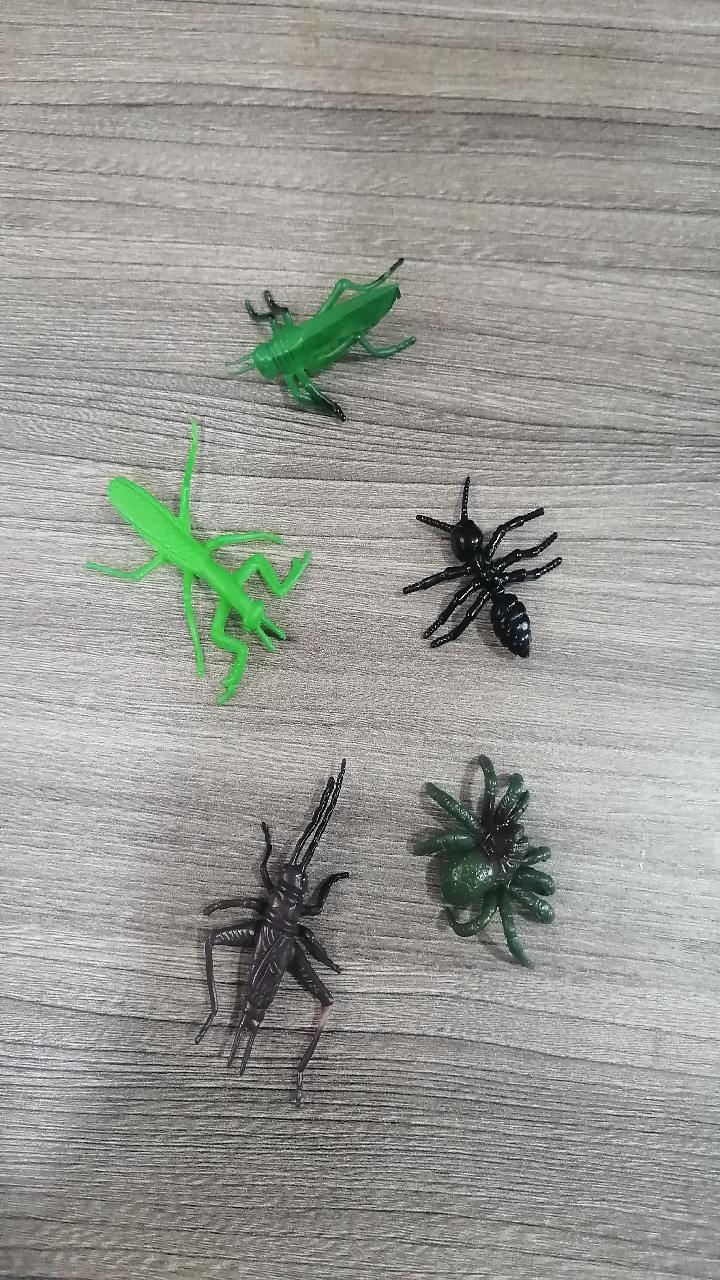intruso: (57, 414, 321, 729), (151, 740, 366, 1105), (375, 729, 591, 983), (208, 235, 449, 442), (381, 455, 572, 685)
